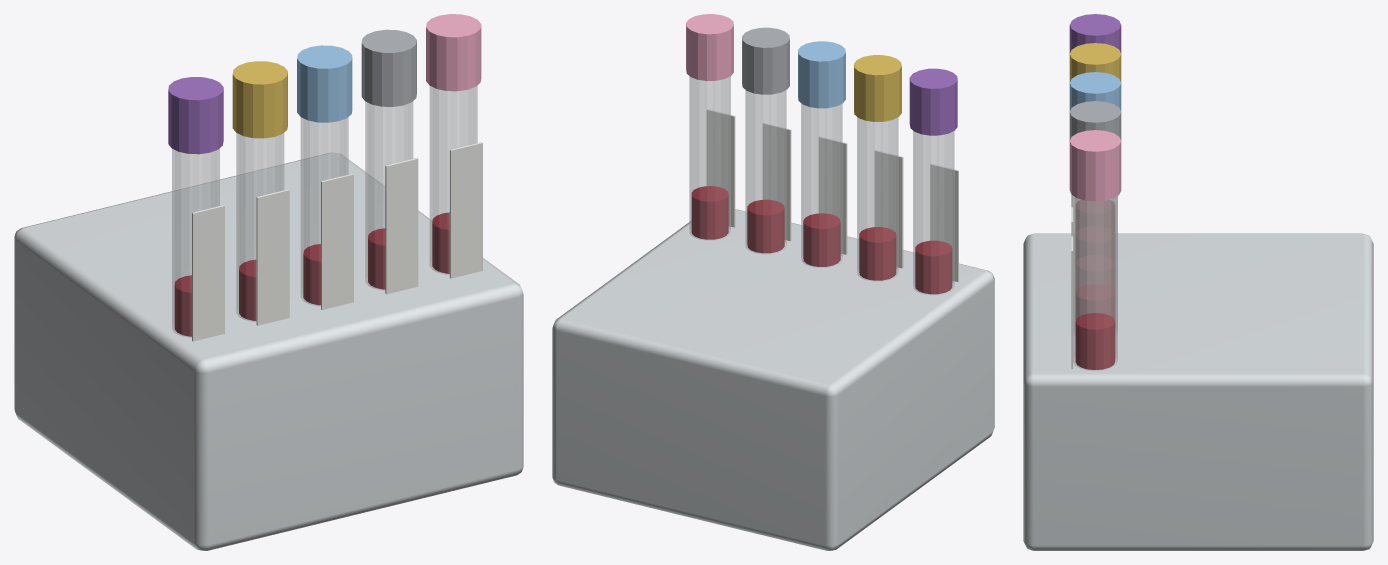
File: specimen_tube_rack.fbx
The picture shows the model from 3 angles, left to right: view 1: azimuth 30°, elevation 25°; view 2: azimuth 150°, elevation 25°; view 3: azimuth 270°, elevation 25°; orthographic projection. The views are drawn at different scales.
Visible parts, largest first — view 1: EQ_specimen_tube_rack_Body, EQ_specimen_tube_rack_Tube_citrate_blue, EQ_specimen_tube_rack_Tube_pink_edta, EQ_specimen_tube_rack_Tube_serum_gold, EQ_specimen_tube_rack_Tube_grey_fluoride, EQ_specimen_tube_rack_Tube_edta_purple, EQ_specimen_tube_rack_Label_grey_fluoride, EQ_specimen_tube_rack_Label_pink_edta, EQ_specimen_tube_rack_Label_serum_gold, EQ_specimen_tube_rack_Label_edta_purple, EQ_specimen_tube_rack_Label_citrate_blue, EQ_specimen_tube_rack_Cap_citrate_blue (+9 smaller); view 2: EQ_specimen_tube_rack_Body, EQ_specimen_tube_rack_Tube_serum_gold, EQ_specimen_tube_rack_Tube_citrate_blue, EQ_specimen_tube_rack_Tube_edta_purple, EQ_specimen_tube_rack_Tube_grey_fluoride, EQ_specimen_tube_rack_Tube_pink_edta, EQ_specimen_tube_rack_Cap_edta_purple, EQ_specimen_tube_rack_Cap_citrate_blue, EQ_specimen_tube_rack_Cap_grey_fluoride, EQ_specimen_tube_rack_Cap_pink_edta, EQ_specimen_tube_rack_Cap_serum_gold, EQ_specimen_tube_rack_Label_serum_gold (+9 smaller); view 3: EQ_specimen_tube_rack_Body, EQ_specimen_tube_rack_Tube_pink_edta, EQ_specimen_tube_rack_Tube_grey_fluoride, EQ_specimen_tube_rack_Cap_pink_edta, EQ_specimen_tube_rack_Fill_pink_edta, EQ_specimen_tube_rack_Cap_grey_fluoride, EQ_specimen_tube_rack_Cap_citrate_blue, EQ_specimen_tube_rack_Cap_edta_purple, EQ_specimen_tube_rack_Cap_serum_gold, EQ_specimen_tube_rack_Fill_grey_fluoride, EQ_specimen_tube_rack_Fill_citrate_blue, EQ_specimen_tube_rack_Fill_serum_gold (+1 smaller).
Boxes of the visible parts, <box> form: EQ_specimen_tube_rack_Body: <box>14,153,523,550</box>; EQ_specimen_tube_rack_Tube_citrate_blue: <box>300,117,348,305</box>; EQ_specimen_tube_rack_Tube_pink_edta: <box>429,85,477,274</box>; EQ_specimen_tube_rack_Tube_serum_gold: <box>236,133,284,321</box>; EQ_specimen_tube_rack_Tube_grey_fluoride: <box>365,101,413,290</box>; EQ_specimen_tube_rack_Tube_edta_purple: <box>172,148,219,337</box>; EQ_specimen_tube_rack_Label_grey_fluoride: <box>385,158,418,294</box>; EQ_specimen_tube_rack_Label_pink_edta: <box>449,142,482,278</box>; EQ_specimen_tube_rack_Label_serum_gold: <box>256,189,289,325</box>; EQ_specimen_tube_rack_Label_edta_purple: <box>192,205,224,341</box>; EQ_specimen_tube_rack_Label_citrate_blue: <box>321,173,353,309</box>; EQ_specimen_tube_rack_Cap_citrate_blue: <box>297,45,352,122</box>; EQ_specimen_tube_rack_Body: <box>552,209,994,550</box>; EQ_specimen_tube_rack_Tube_serum_gold: <box>857,117,898,281</box>; EQ_specimen_tube_rack_Tube_citrate_blue: <box>801,103,842,267</box>; EQ_specimen_tube_rack_Tube_edta_purple: <box>913,131,954,294</box>; EQ_specimen_tube_rack_Tube_grey_fluoride: <box>745,90,786,253</box>; EQ_specimen_tube_rack_Tube_pink_edta: <box>689,76,730,240</box>; EQ_specimen_tube_rack_Cap_edta_purple: <box>909,68,957,135</box>; EQ_specimen_tube_rack_Cap_citrate_blue: <box>798,41,845,108</box>; EQ_specimen_tube_rack_Cap_grey_fluoride: <box>742,27,789,94</box>; EQ_specimen_tube_rack_Cap_pink_edta: <box>686,14,733,80</box>; EQ_specimen_tube_rack_Cap_serum_gold: <box>854,55,901,121</box>; EQ_specimen_tube_rack_Label_serum_gold: <box>875,150,903,268</box>; EQ_specimen_tube_rack_Body: <box>1023,233,1373,550</box>; EQ_specimen_tube_rack_Tube_pink_edta: <box>1073,196,1117,370</box>; EQ_specimen_tube_rack_Tube_grey_fluoride: <box>1073,196,1117,332</box>; EQ_specimen_tube_rack_Cap_pink_edta: <box>1069,130,1121,201</box>; EQ_specimen_tube_rack_Fill_pink_edta: <box>1075,313,1115,369</box>; EQ_specimen_tube_rack_Cap_grey_fluoride: <box>1069,101,1121,140</box>; EQ_specimen_tube_rack_Cap_citrate_blue: <box>1069,72,1121,111</box>; EQ_specimen_tube_rack_Cap_edta_purple: <box>1069,14,1121,53</box>; EQ_specimen_tube_rack_Cap_serum_gold: <box>1069,43,1121,82</box>; EQ_specimen_tube_rack_Fill_grey_fluoride: <box>1076,284,1114,318</box>; EQ_specimen_tube_rack_Fill_citrate_blue: <box>1076,255,1114,289</box>; EQ_specimen_tube_rack_Fill_serum_gold: <box>1076,226,1114,260</box>.
Size of the model in its own units: 0.102 by 0.128 by 0.102.
